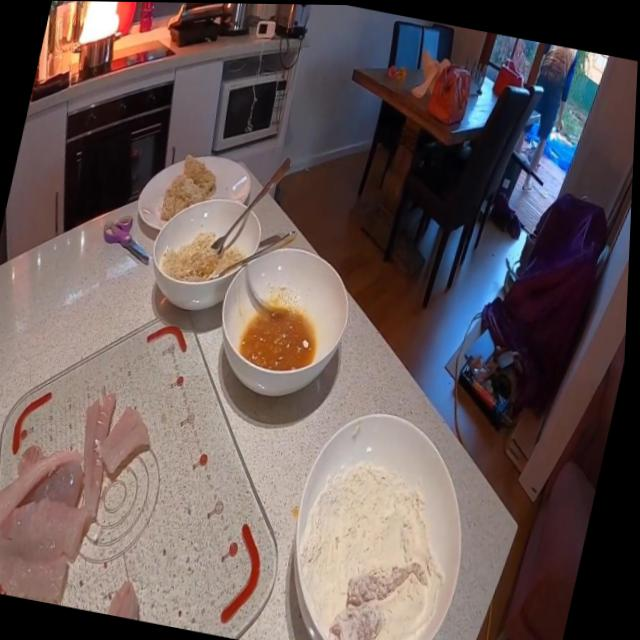fire: (71, 1, 134, 53)
